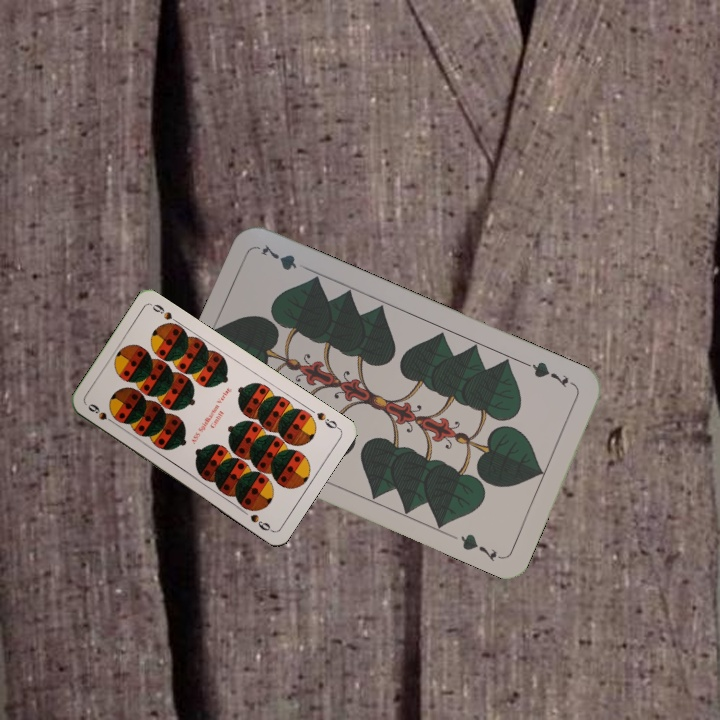G7: (522, 357, 578, 389)
S9: (84, 400, 119, 428), (313, 408, 342, 432)
